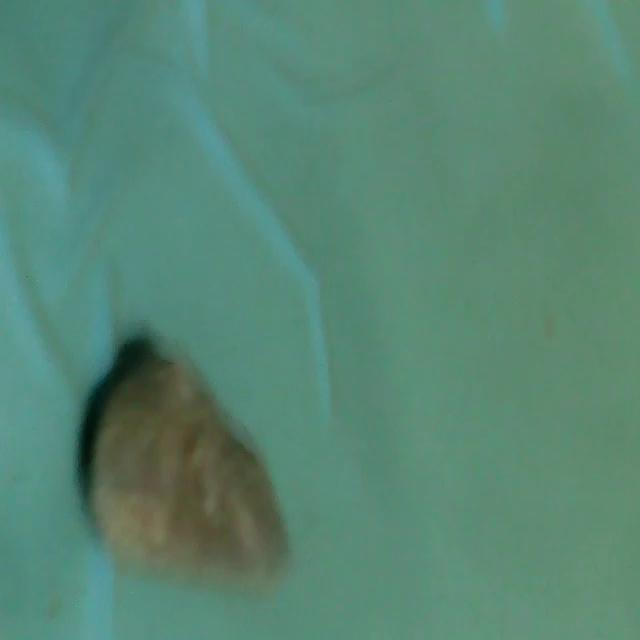rock: (70, 338, 302, 618)
